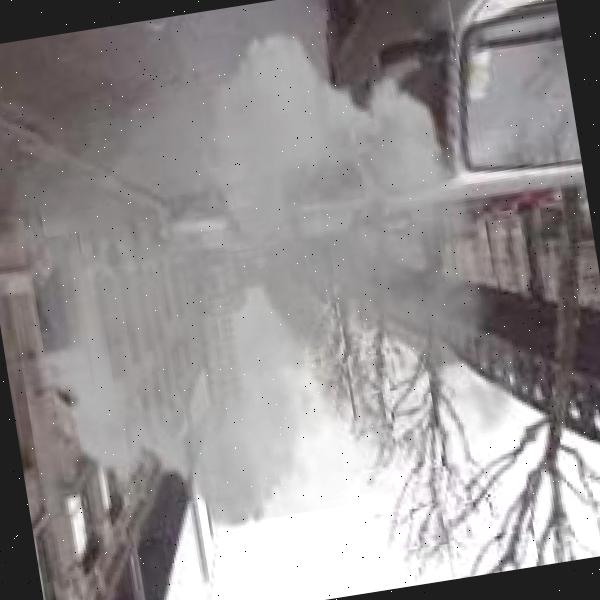smoke: (0, 0, 558, 575)
